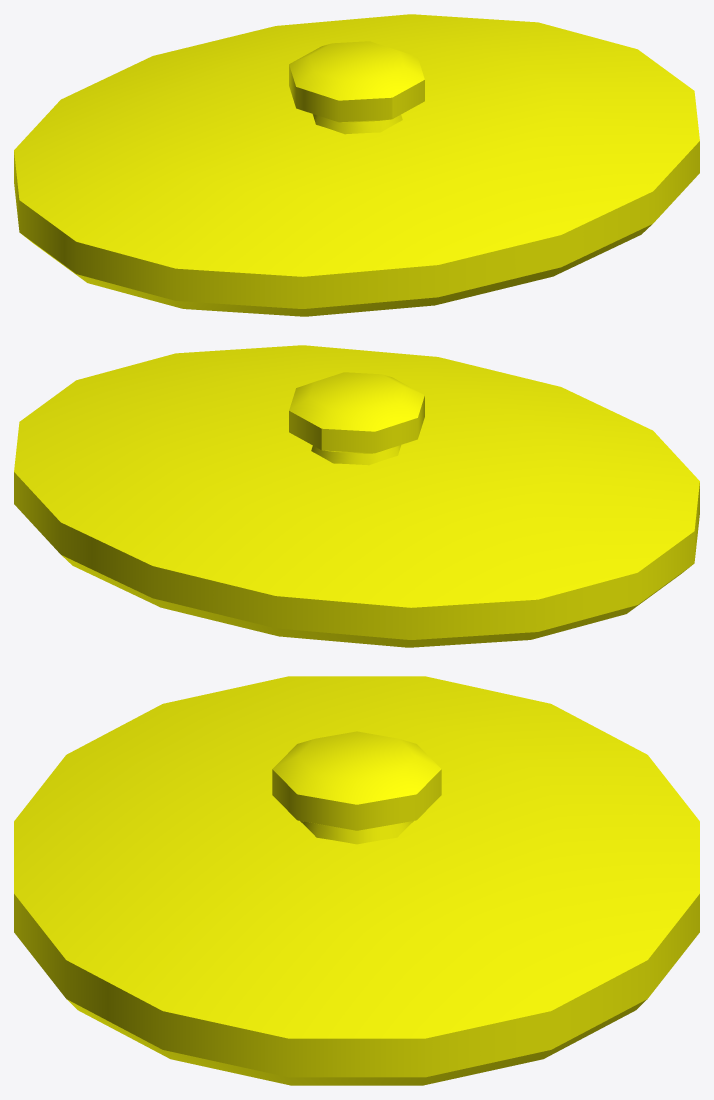
File: lid_large.gltf
3 views of the same model, one above another, from view 1: azimuth 30°, elevation 25°; view 2: azimuth 150°, elevation 25°; view 3: azimuth 270°, elevation 25° (orthographic). The views are drawn at different scales.
Visible parts, largest first — view 1: lid_large; view 2: lid_large; view 3: lid_large.
Part boxes in pixels (<box>): lid_large: <box>14,14,699,316</box>; lid_large: <box>14,345,699,647</box>; lid_large: <box>14,676,699,1085</box>.
Size of the model in its own units: 1.5 by 0.3 by 1.2.
Materials: 1 (1 with a texture image).
